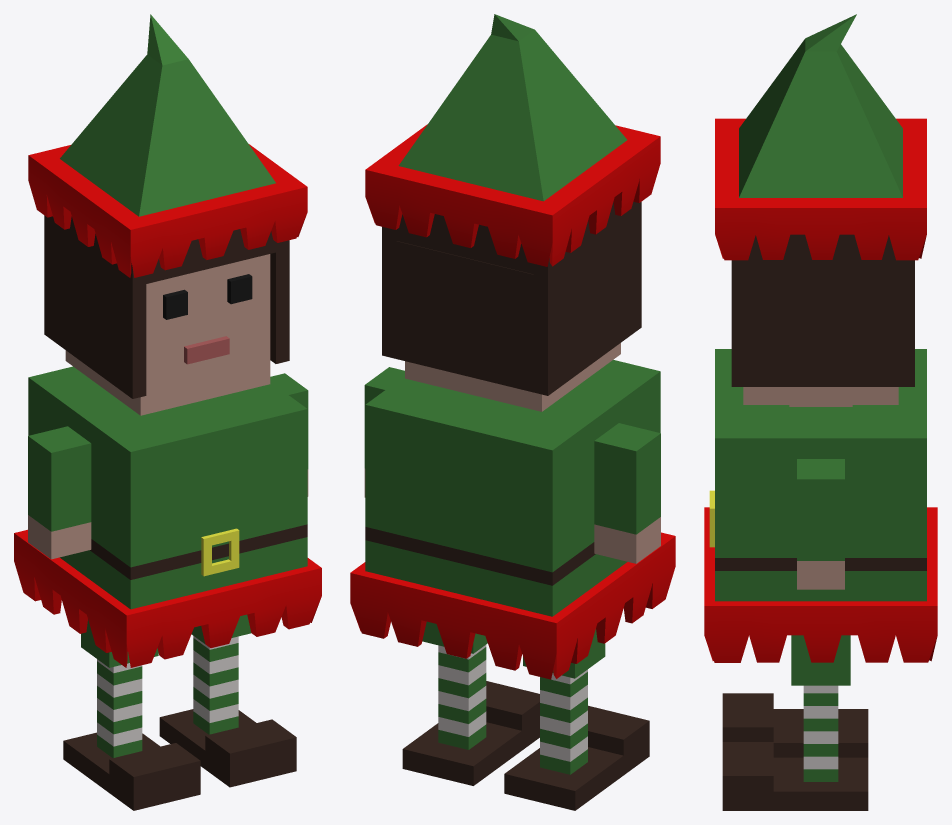
Rendered from 077 Xmas_Girl.fbx.
3 views of the same model, side by side, from view 1: azimuth 30°, elevation 25°; view 2: azimuth 150°, elevation 25°; view 3: azimuth 270°, elevation 25° (orthographic). The views are drawn at different scales.
Parts seen in each view (by area): view 1: Lowpoly_Christmas_Pack_077:Lowpoly_Christmas_Pack_076:pCube1; view 2: Lowpoly_Christmas_Pack_077:Lowpoly_Christmas_Pack_076:pCube1; view 3: Lowpoly_Christmas_Pack_077:Lowpoly_Christmas_Pack_076:pCube1.
Part boxes in pixels (<box>): Lowpoly_Christmas_Pack_077:Lowpoly_Christmas_Pack_076:pCube1: <box>14,14,321,810</box>; Lowpoly_Christmas_Pack_077:Lowpoly_Christmas_Pack_076:pCube1: <box>350,14,675,810</box>; Lowpoly_Christmas_Pack_077:Lowpoly_Christmas_Pack_076:pCube1: <box>704,14,937,810</box>.
Bounding box in the file's own units: 1.02 × 2.76 × 0.7733.
